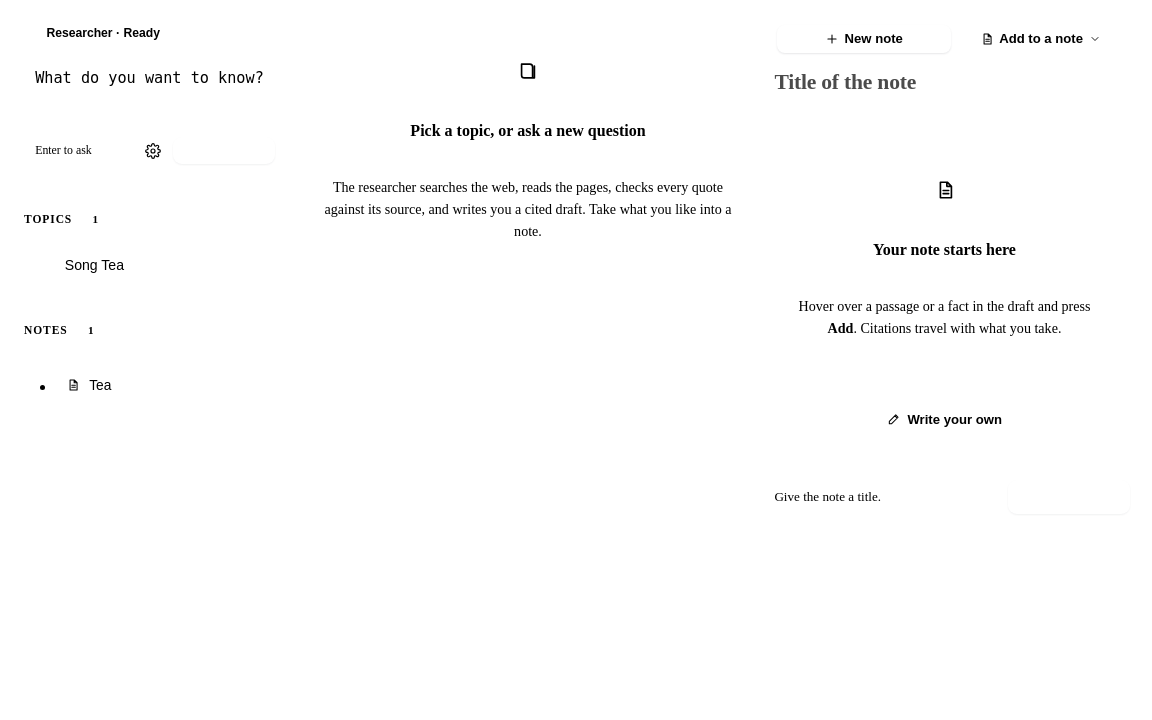
Scenario: Studio › opening an existing note keeps what was collected
This screenshot has width=1152, height=720.
Click the button "Song Tea".
click(159, 265)  # box [46, 250, 273, 280]
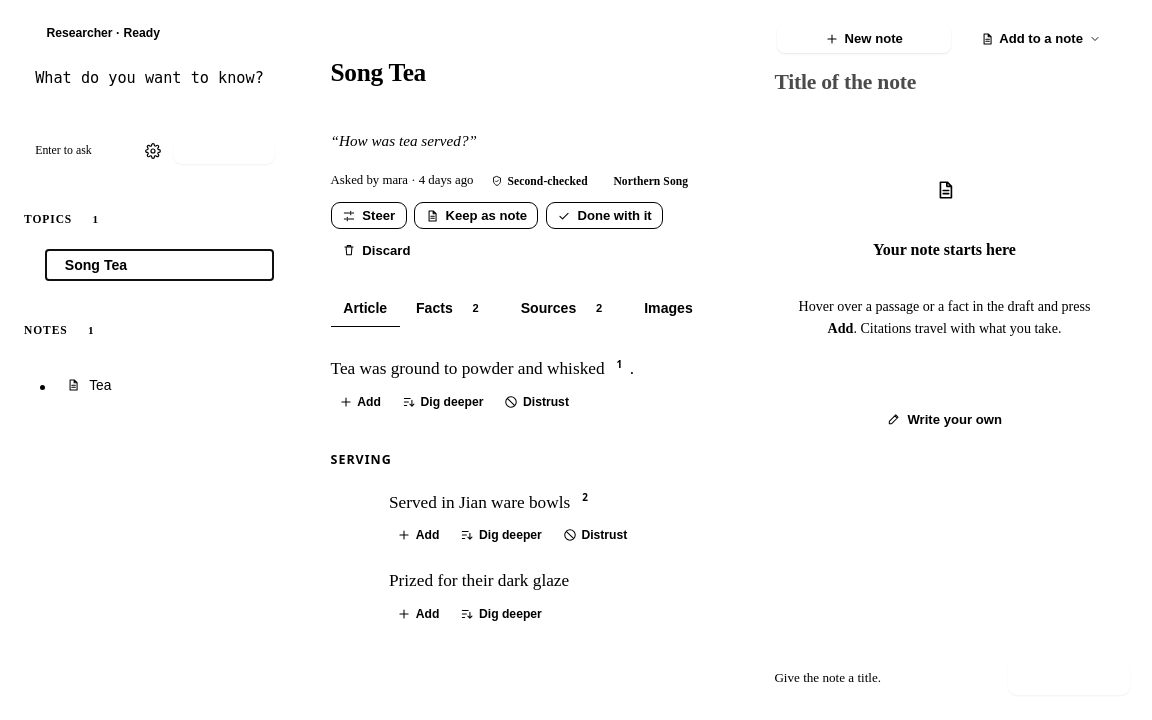
Click the button "Add" below "Tea was ground to powder and whisked".
click(360, 402)  # box [330, 392, 389, 413]
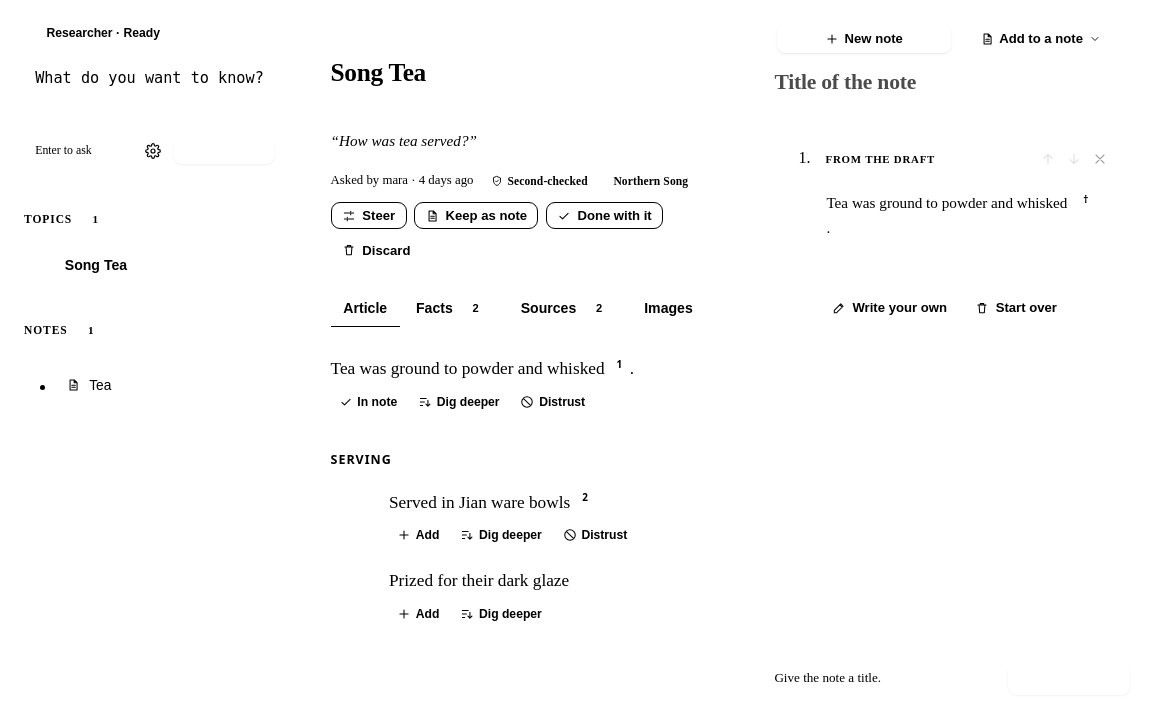
Click the button "Tea".
click(164, 385)  # box [56, 371, 273, 399]
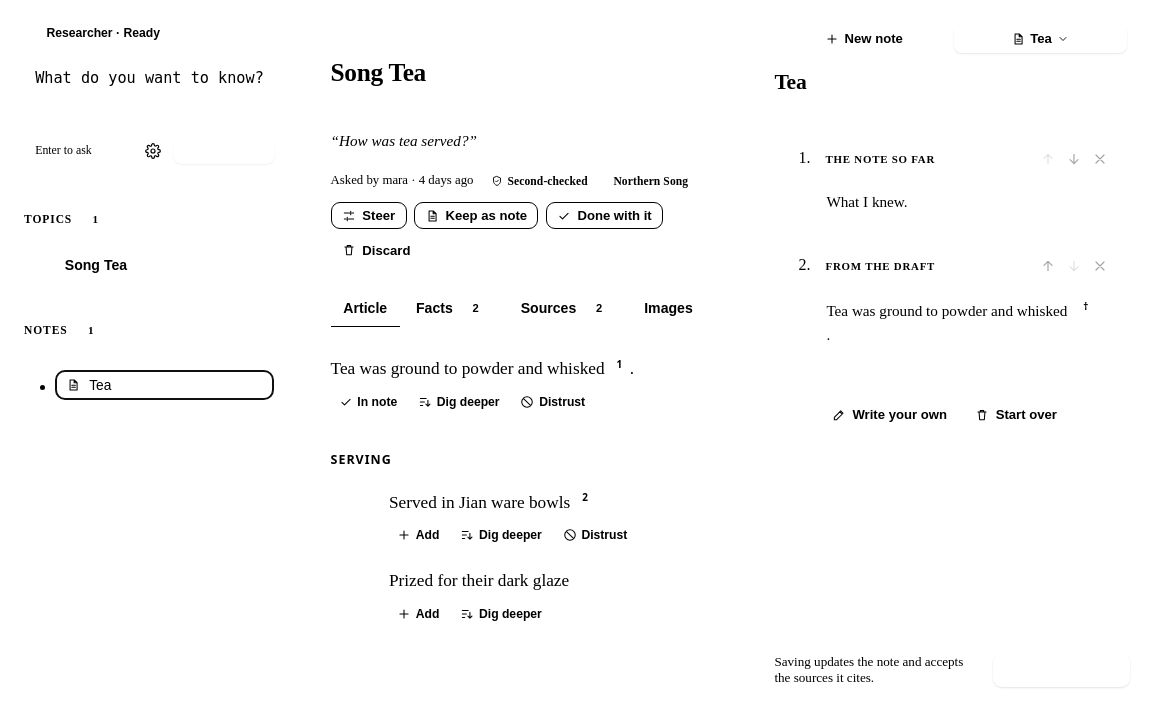
Now the text "What I knew." is shown, box [826, 194, 908, 210]
